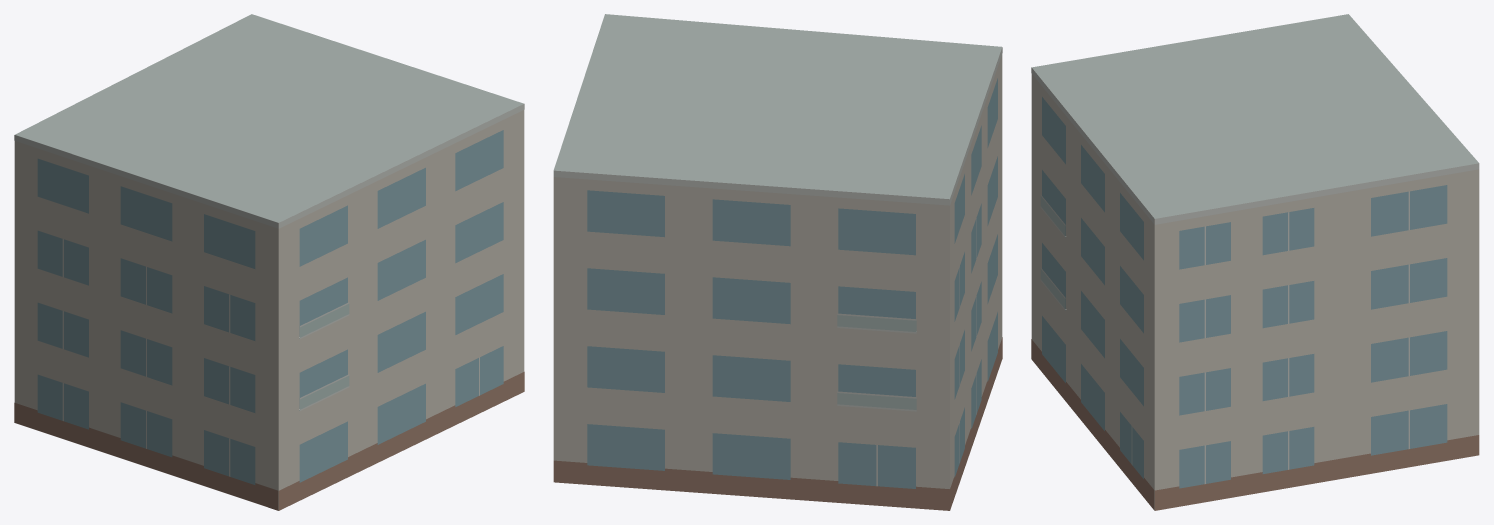
The model's file is survey-upis-32861529.glb.
The picture shows the model from 3 angles, left to right: view 1: azimuth 30°, elevation 25°; view 2: azimuth 150°, elevation 25°; view 3: azimuth 270°, elevation 25°; orthographic projection. The views are drawn at different scales.
Visible parts, largest first — view 1: survey-upis-32861529.tmp; view 2: survey-upis-32861529.tmp; view 3: survey-upis-32861529.tmp.
Boxes of the visible parts, x1,y1,x2,y2 form: survey-upis-32861529.tmp: (14,14,524,510); survey-upis-32861529.tmp: (553,14,1002,510); survey-upis-32861529.tmp: (1031,14,1479,510).
Bounding box in the file's own units: 17.92 × 11.9 × 16.55.
